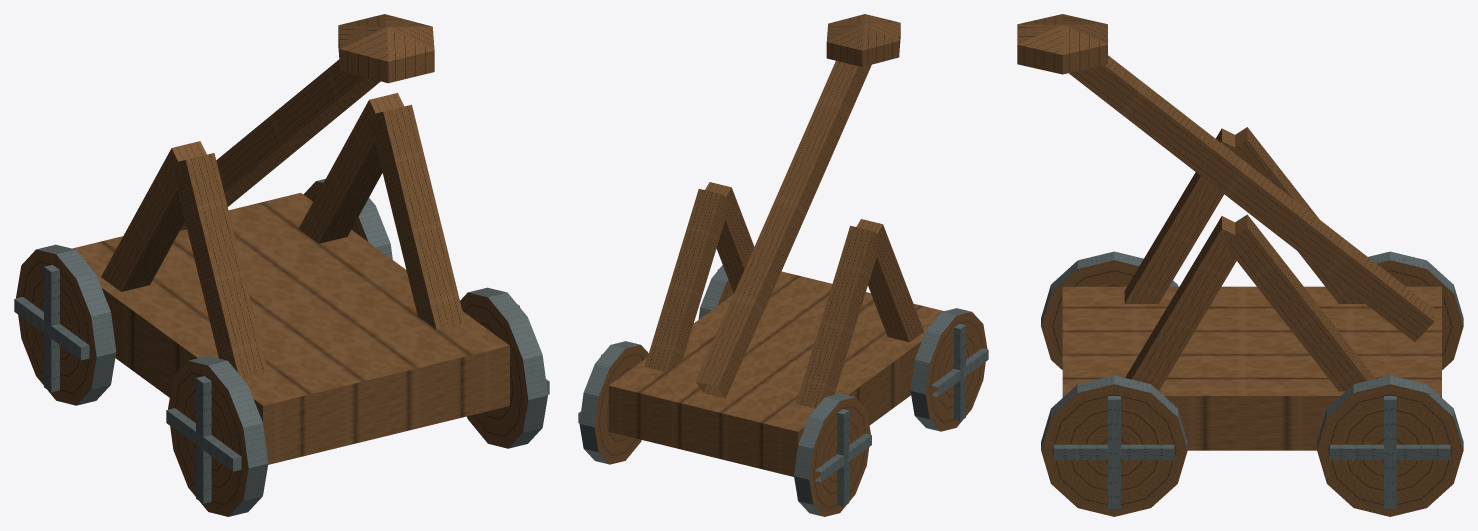
The model's file is unit-CATAPULT-lod0.glb.
3 views of the same model, side by side, from view 1: azimuth 30°, elevation 25°; view 2: azimuth 150°, elevation 25°; view 3: azimuth 270°, elevation 25° (orthographic). The views are drawn at different scales.
Bounding box in the file's own units: 0.385 × 0.545 × 0.5175.
1 material, 1 textured.
